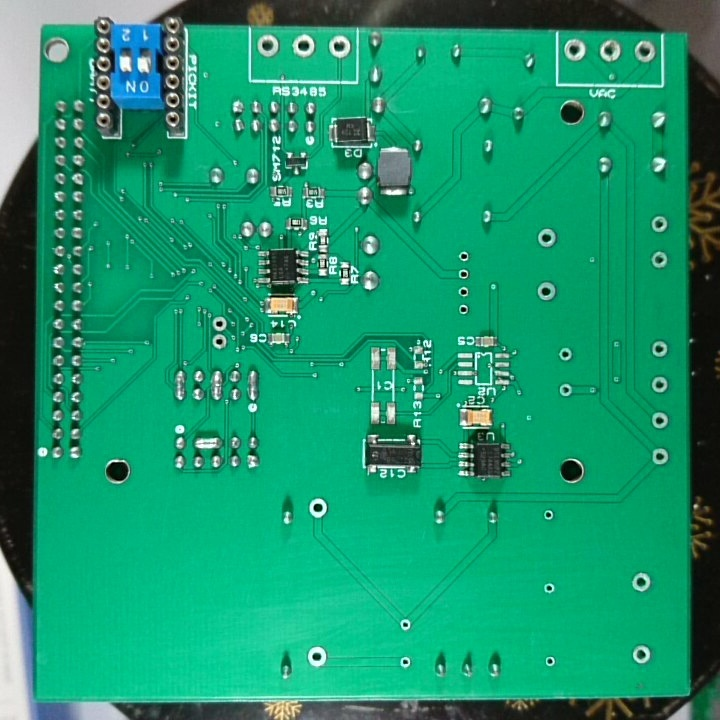F: (631, 36, 659, 68), (596, 36, 625, 65), (325, 34, 355, 61), (561, 36, 590, 63), (290, 33, 319, 59), (533, 225, 560, 252), (628, 642, 654, 669), (629, 569, 654, 597), (306, 495, 331, 523), (305, 643, 330, 670), (534, 279, 559, 305), (254, 34, 281, 58), (648, 337, 672, 361), (649, 409, 672, 433), (647, 212, 670, 235), (648, 374, 672, 396), (648, 248, 669, 271), (650, 446, 671, 469), (207, 332, 229, 352), (555, 343, 575, 365), (208, 314, 230, 333), (539, 578, 559, 598), (454, 298, 473, 319), (454, 265, 473, 283), (455, 281, 473, 300), (557, 380, 574, 400), (454, 247, 474, 264), (397, 616, 414, 635), (542, 653, 558, 672), (397, 652, 413, 670), (541, 506, 556, 523)
P: (191, 432, 225, 452), (208, 366, 224, 407), (245, 366, 262, 403), (170, 368, 186, 403)
